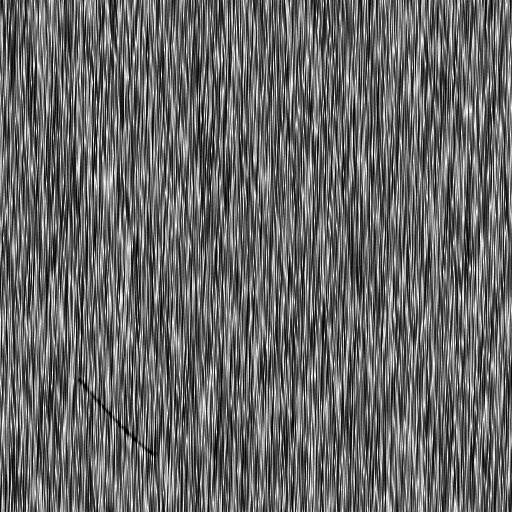DefectTypeC: (75, 377, 156, 459)
